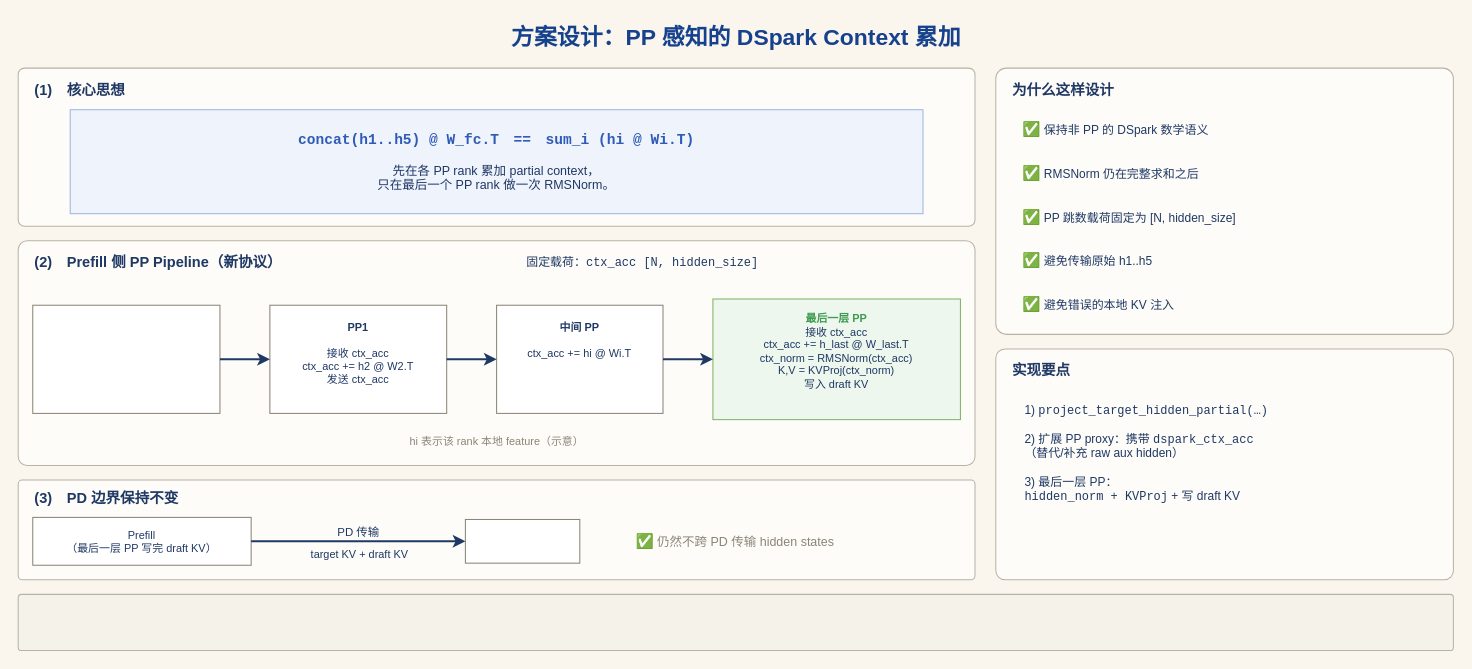
Image size: 1472x669. Some labels were removed from this diagram. Each missing label, with the centre of its shape:
Decode: the point at 522,540
PP0 ctx_acc = h1 @ W1.T 发送 ctx_acc [N, hidden_size]: the point at 126,358
新增通信只发生在 Prefill 的 PP 阶段；Decode 路径不变。: the point at 735,622
